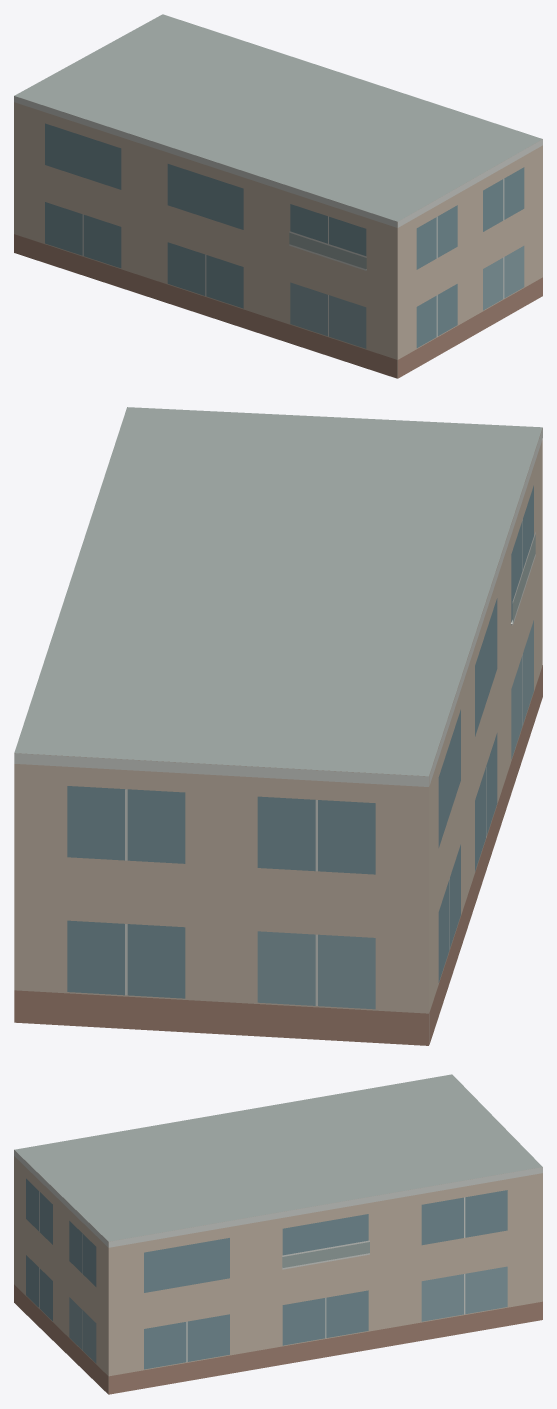
Rendered from survey-upis-32851565.glb.
3 views of the same model, one above another, from view 1: azimuth 30°, elevation 25°; view 2: azimuth 150°, elevation 25°; view 3: azimuth 270°, elevation 25° (orthographic). The views are drawn at different scales.
Visible parts, largest first — view 1: survey-upis-32851565.tmp; view 2: survey-upis-32851565.tmp; view 3: survey-upis-32851565.tmp.
Boxes of the visible parts, bbox=[...] form: survey-upis-32851565.tmp: bbox=[14, 14, 542, 378]; survey-upis-32851565.tmp: bbox=[14, 407, 542, 1045]; survey-upis-32851565.tmp: bbox=[14, 1074, 542, 1394].
Bounding box in the file's own units: 14.34 × 6.1 × 19.13.
